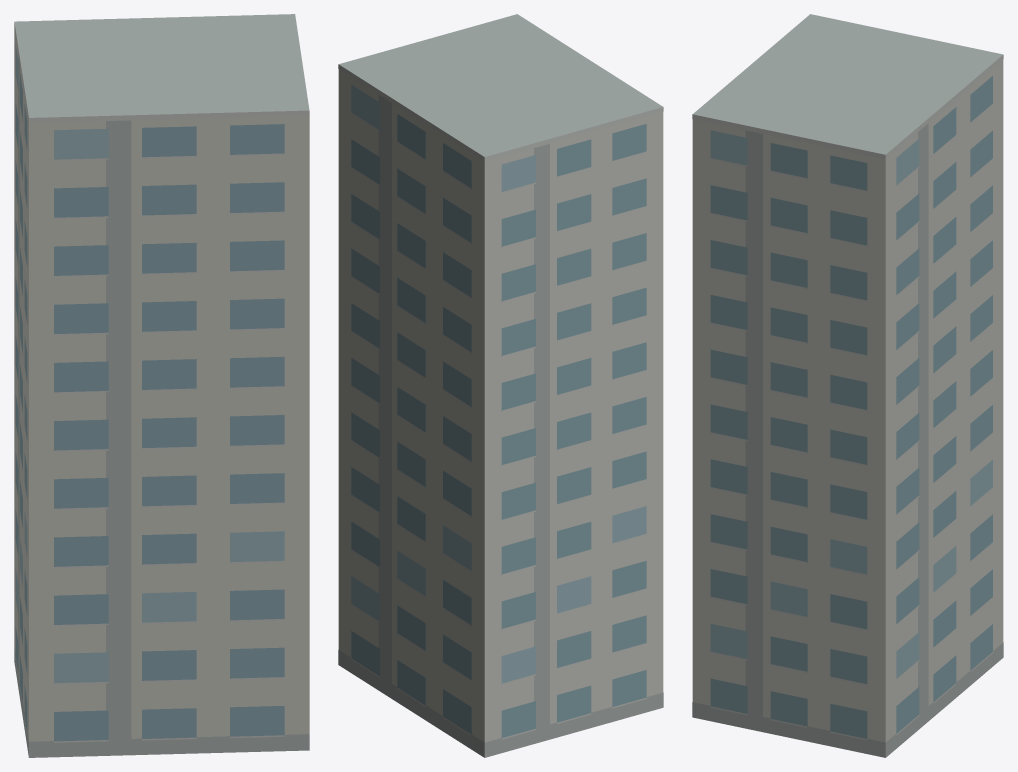
The model's file is residential-89ecb45b-798d-4555-adc0-63a7bcd5e026.glb.
The picture shows the model from 3 angles, left to right: view 1: azimuth 30°, elevation 25°; view 2: azimuth 150°, elevation 25°; view 3: azimuth 270°, elevation 25°; orthographic projection. The views are drawn at different scales.
Parts seen in each view (by area): view 1: residential-89ecb45b-798d-4555-adc0-63a7bcd5e026.tmp; view 2: residential-89ecb45b-798d-4555-adc0-63a7bcd5e026.tmp; view 3: residential-89ecb45b-798d-4555-adc0-63a7bcd5e026.tmp.
Part boxes in pixels (box(x1,y1,x2,y2)): residential-89ecb45b-798d-4555-adc0-63a7bcd5e026.tmp: box(14, 14, 309, 757); residential-89ecb45b-798d-4555-adc0-63a7bcd5e026.tmp: box(338, 14, 663, 757); residential-89ecb45b-798d-4555-adc0-63a7bcd5e026.tmp: box(692, 14, 1003, 757).
Size of the model in its own units: 15.03 by 30 by 14.03.
